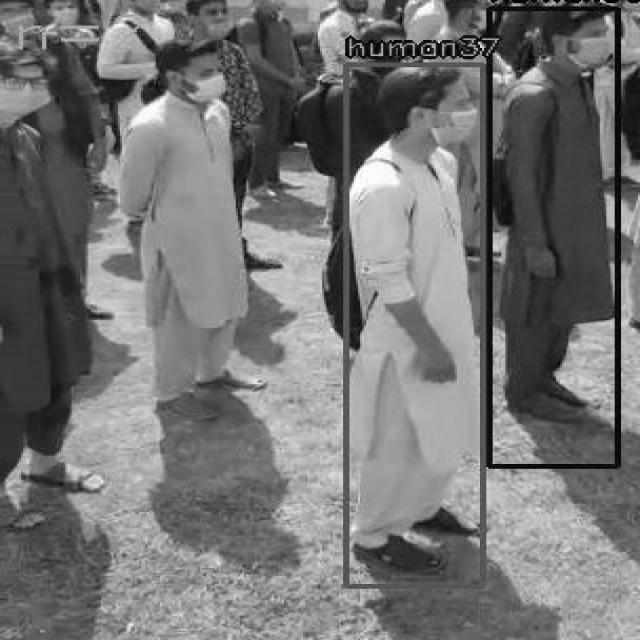person: (343, 62, 482, 586), (486, 7, 617, 466)
